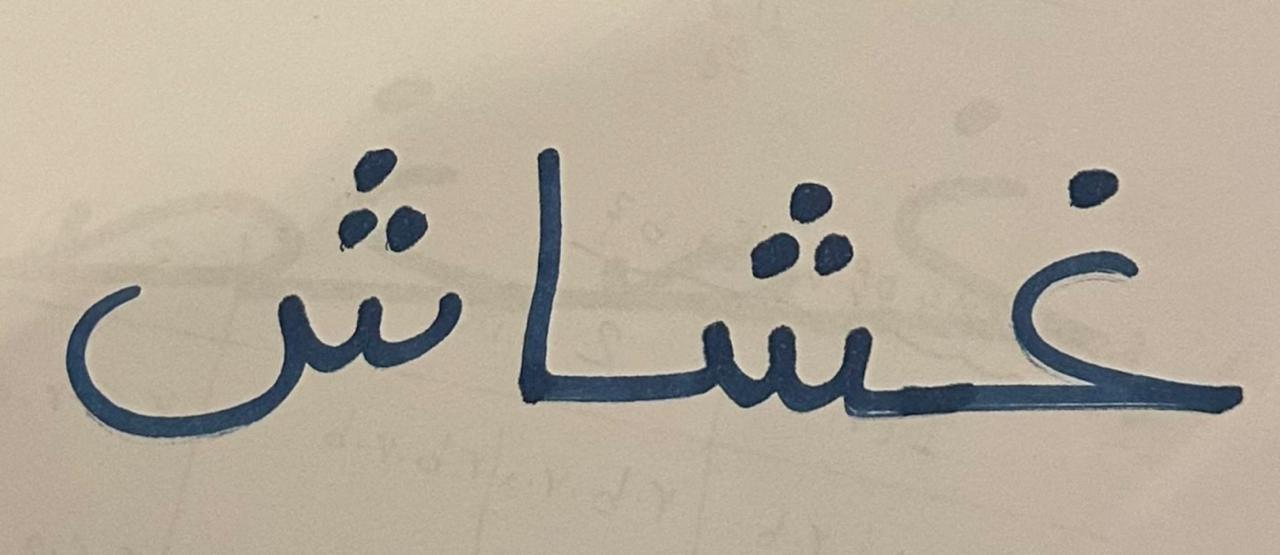alef: (483, 101, 608, 468)
ghain: (922, 84, 1266, 504)
tah: (32, 62, 478, 468), (610, 147, 919, 470)
